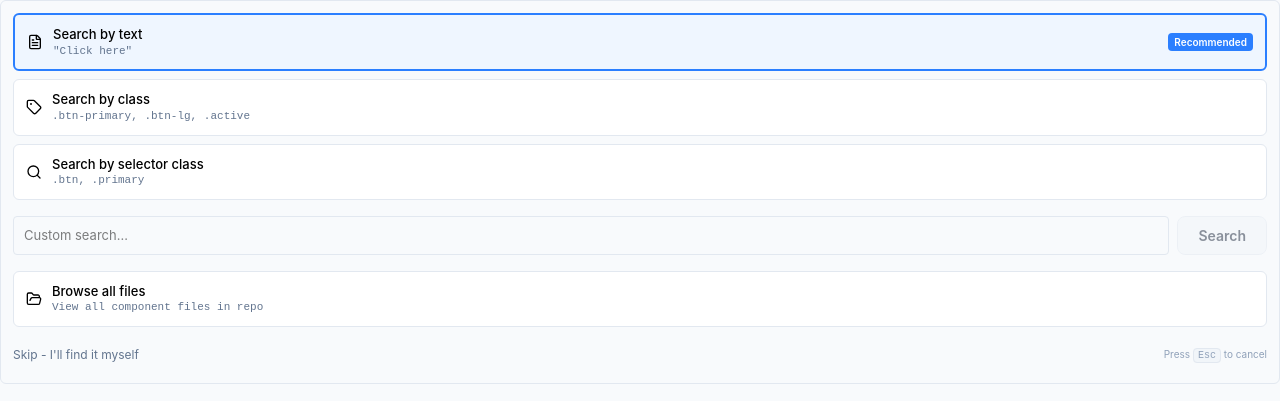
Test: findings/apply-fix/FileFinder › shows error when search fails
The image size is (1280, 401).
Click the text "Search by text": point(98, 34) left=53, top=26, right=142, bottom=42
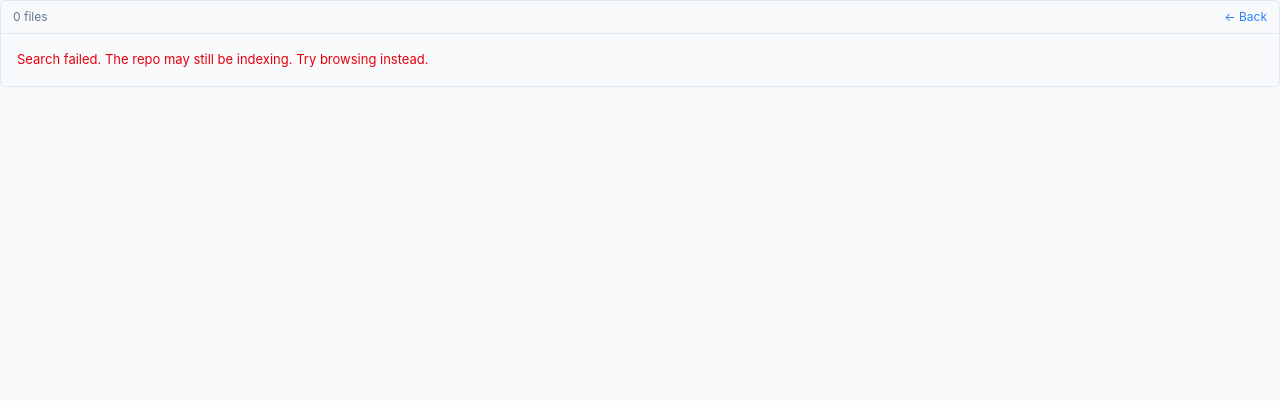
expect the text "Search failed" is shown: met, box left=17, top=51, right=429, bottom=67
